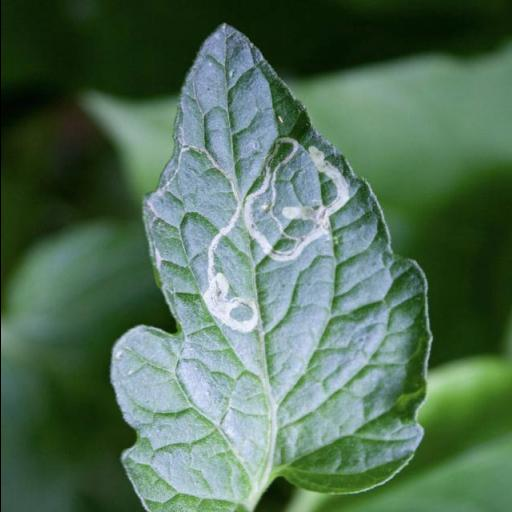disease_tomato: (112, 23, 434, 512)
